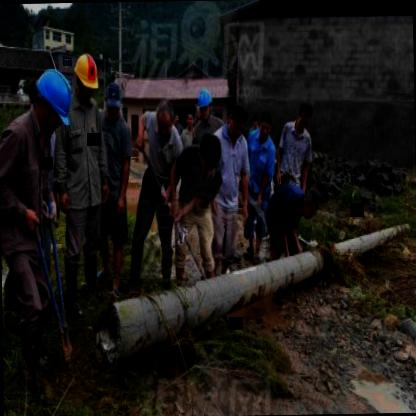head: (197, 128, 227, 180), (98, 79, 126, 122), (152, 91, 176, 140), (226, 101, 248, 138), (294, 100, 315, 138), (301, 182, 320, 220), (257, 105, 272, 138)
helmet: (30, 66, 72, 136), (70, 48, 100, 107), (193, 86, 214, 124)
